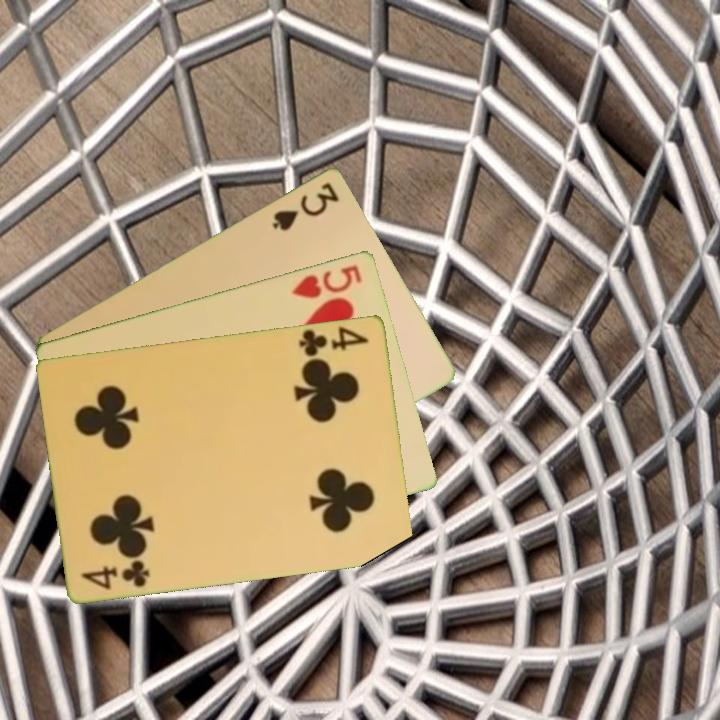3s: (268, 178, 342, 233)
4c: (296, 322, 372, 359), (78, 556, 154, 592)
5h: (289, 261, 365, 301)
